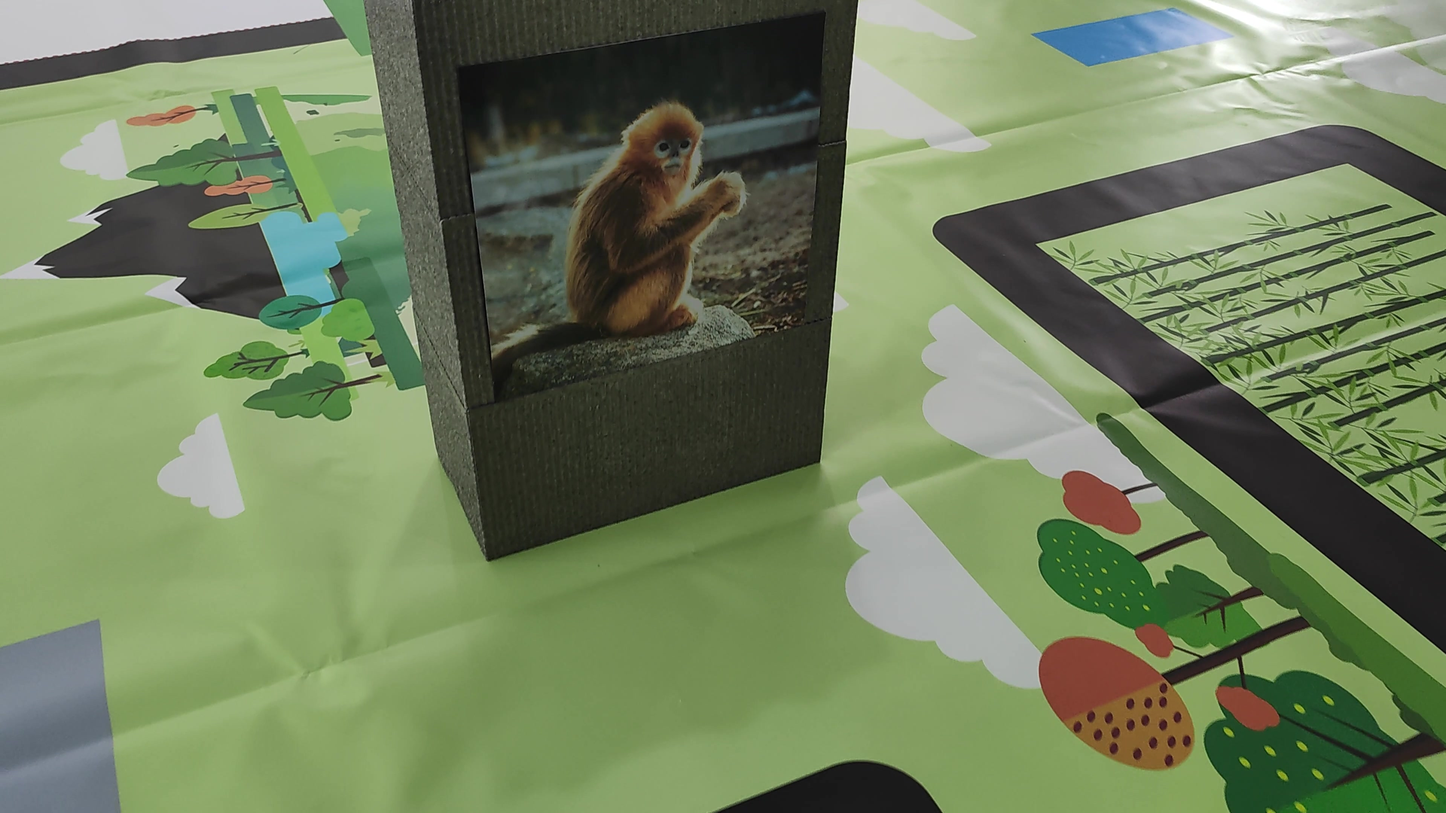monkey: (484, 70, 758, 396)
